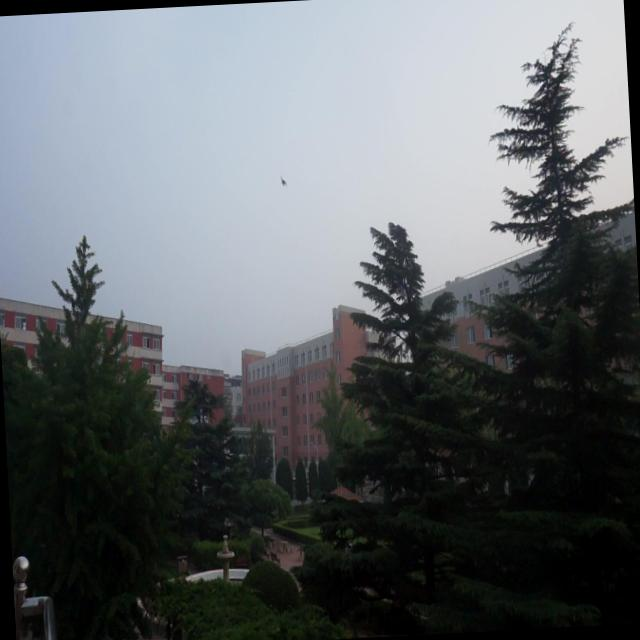drone: (278, 173, 290, 190)
